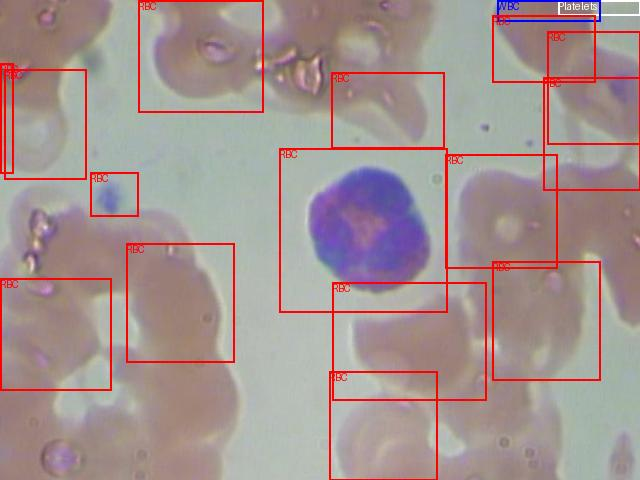Platelets: (558, 0, 640, 15)
RBC: (279, 148, 447, 312), (332, 282, 486, 400), (138, 0, 263, 112), (126, 243, 234, 362), (492, 261, 600, 380), (445, 154, 557, 268), (0, 278, 111, 390), (329, 371, 437, 480), (543, 77, 640, 190), (547, 31, 640, 144), (4, 69, 86, 179), (331, 72, 444, 148), (492, 15, 595, 82), (90, 172, 138, 216), (0, 63, 13, 173)
WBC: (497, 0, 600, 21)
